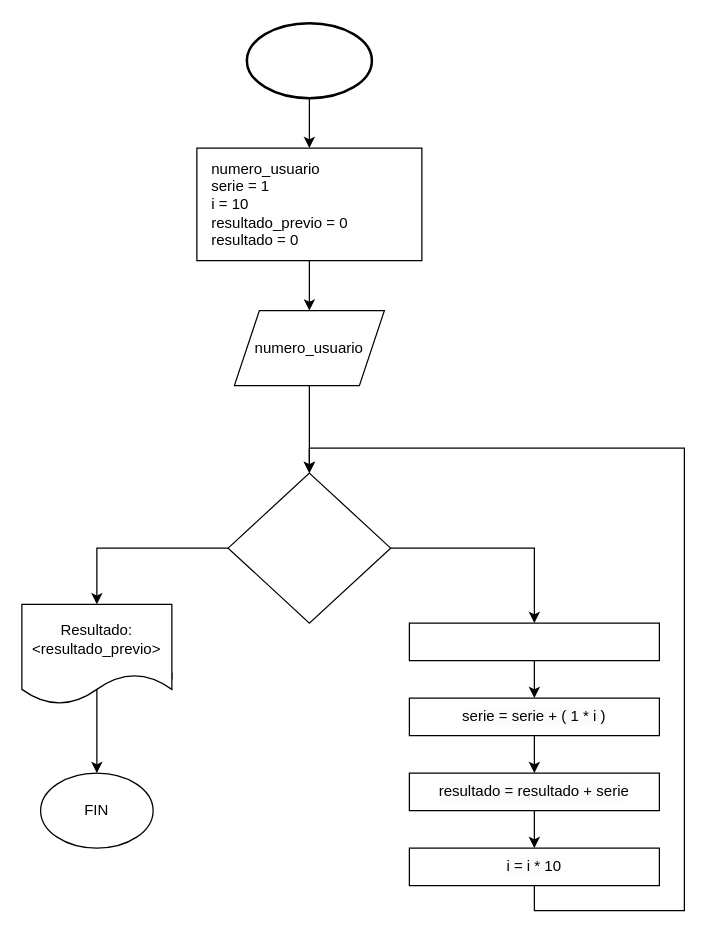
Image size: 716x943. Some labels were removed from this diagram. Each missing label, with the centre of its shape:
INICIO: pixel 308 60
resultado < numero_usuario: pixel 309 547
resultado_ previo = resultado + 1: pixel 533 641
